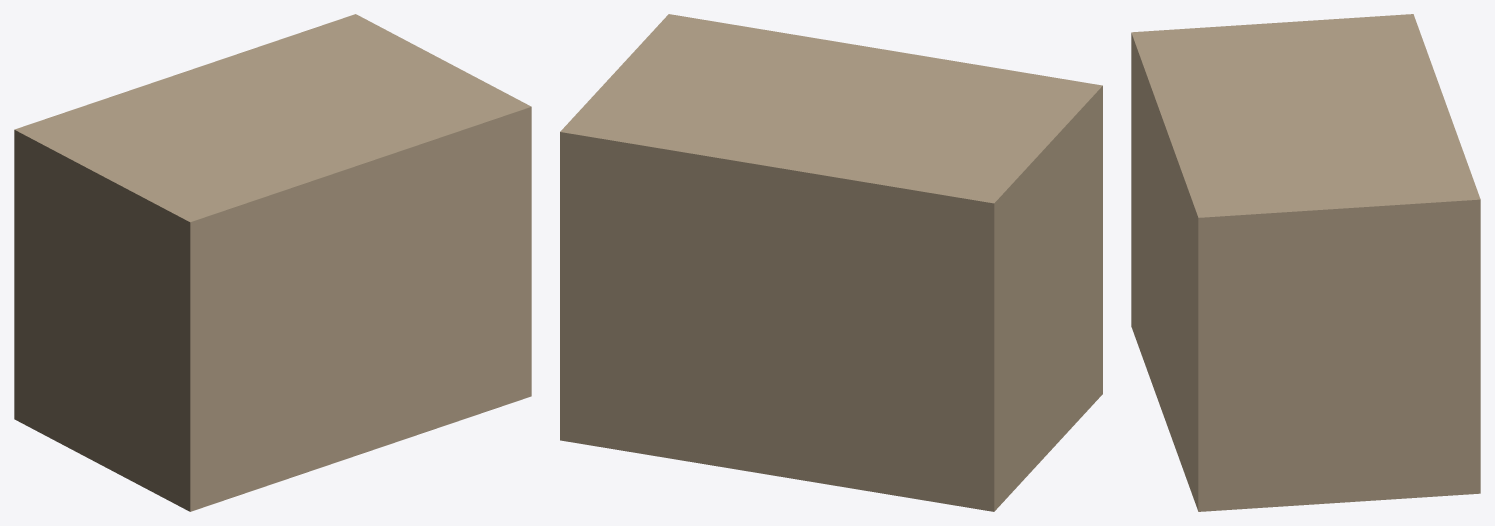
Rendered from bld_111406420.dae.
3 renders of one model, left to right at view 1: azimuth 30°, elevation 25°; view 2: azimuth 150°, elevation 25°; view 3: azimuth 270°, elevation 25°, orthographic. The views are drawn at different scales.
Parts seen in each view (by area): view 1: bld_111406420; view 2: bld_111406420; view 3: bld_111406420.
Boxes of the visible parts, <box> form: bld_111406420: <box>14,14,531,511</box>; bld_111406420: <box>560,14,1102,511</box>; bld_111406420: <box>1131,14,1480,511</box>.
Bounding box in the file's own units: 11.89 × 8.61 × 8.
